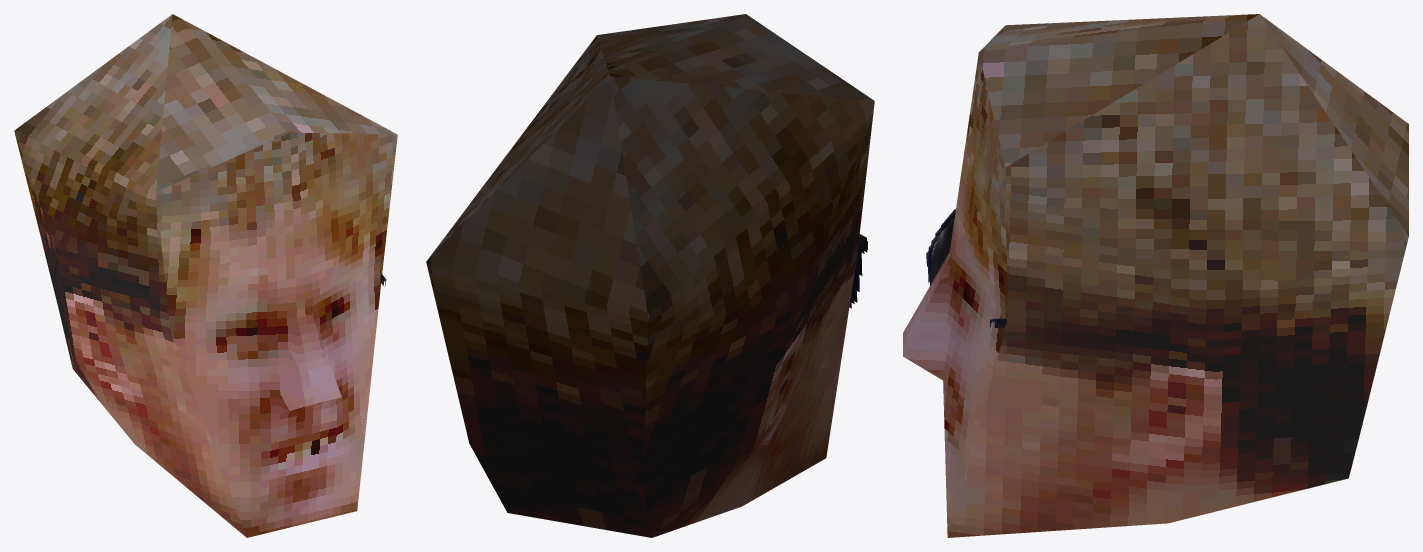
Rendered from CheadjimZ.obj.
3 views of the same model, side by side, from view 1: azimuth 30°, elevation 25°; view 2: azimuth 150°, elevation 25°; view 3: azimuth 270°, elevation 25° (orthographic). The views are drawn at different scales.
Bounding box in the file's own units: 165 × 253 × 227.
7 materials, 7 textured.
